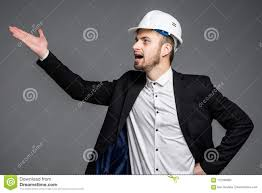Person_wearing_helmet: (125, 8, 185, 46)
